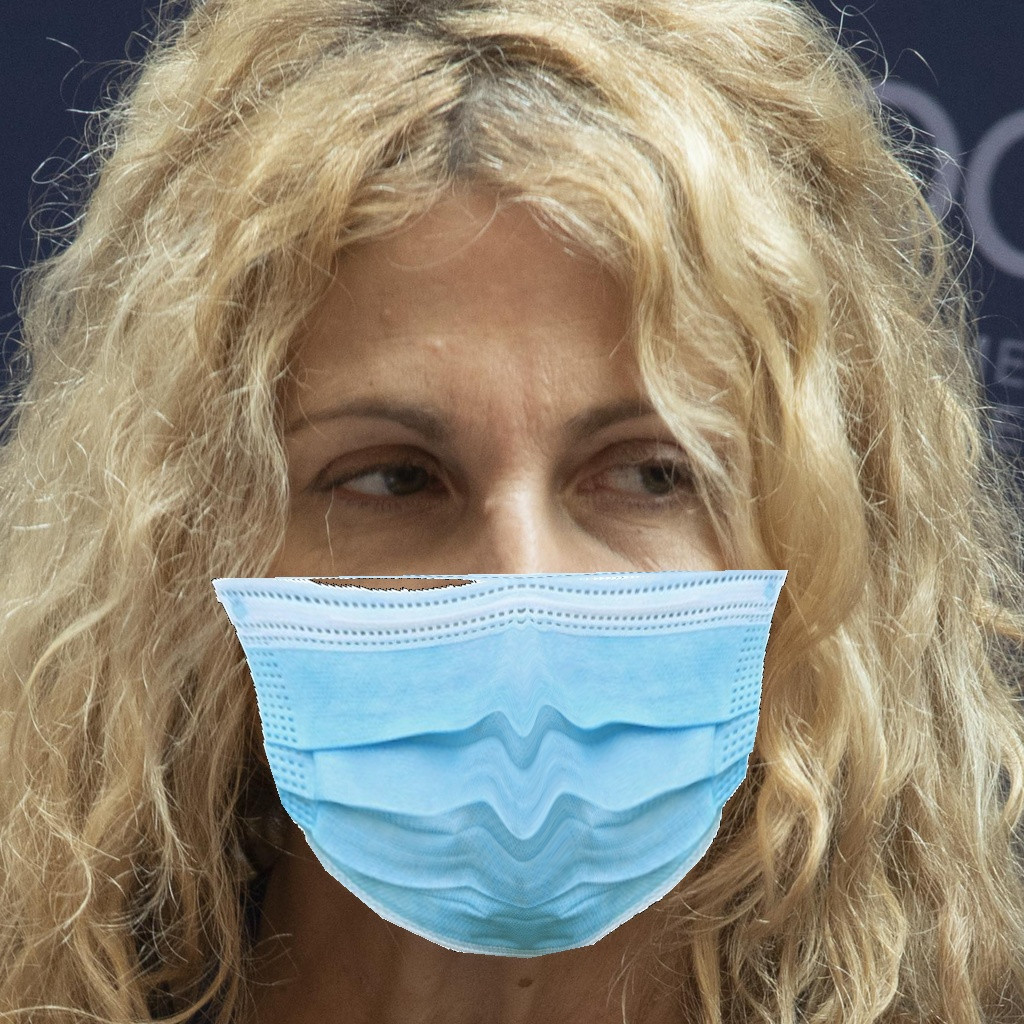Mask: (215, 343, 785, 961)
